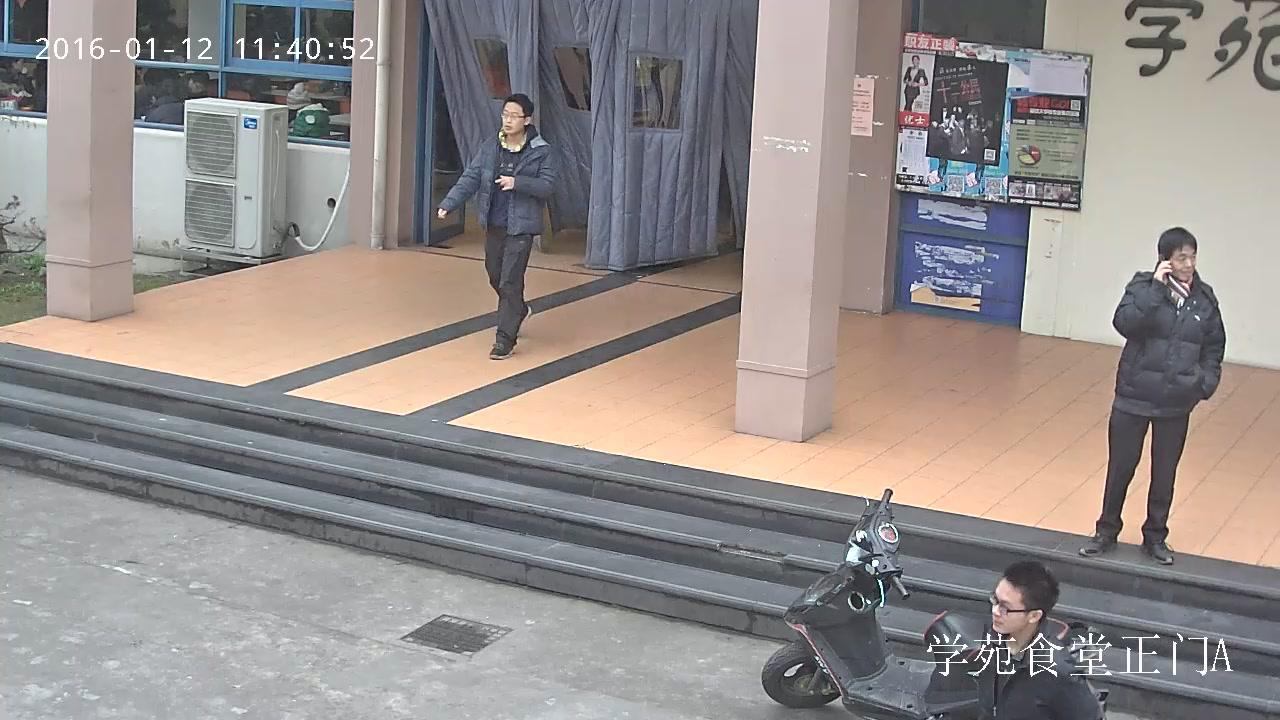person: (1077, 227, 1224, 565), (436, 93, 557, 359), (975, 561, 1104, 720), (286, 82, 330, 141), (143, 79, 185, 124), (902, 54, 927, 111), (18, 67, 46, 112)
